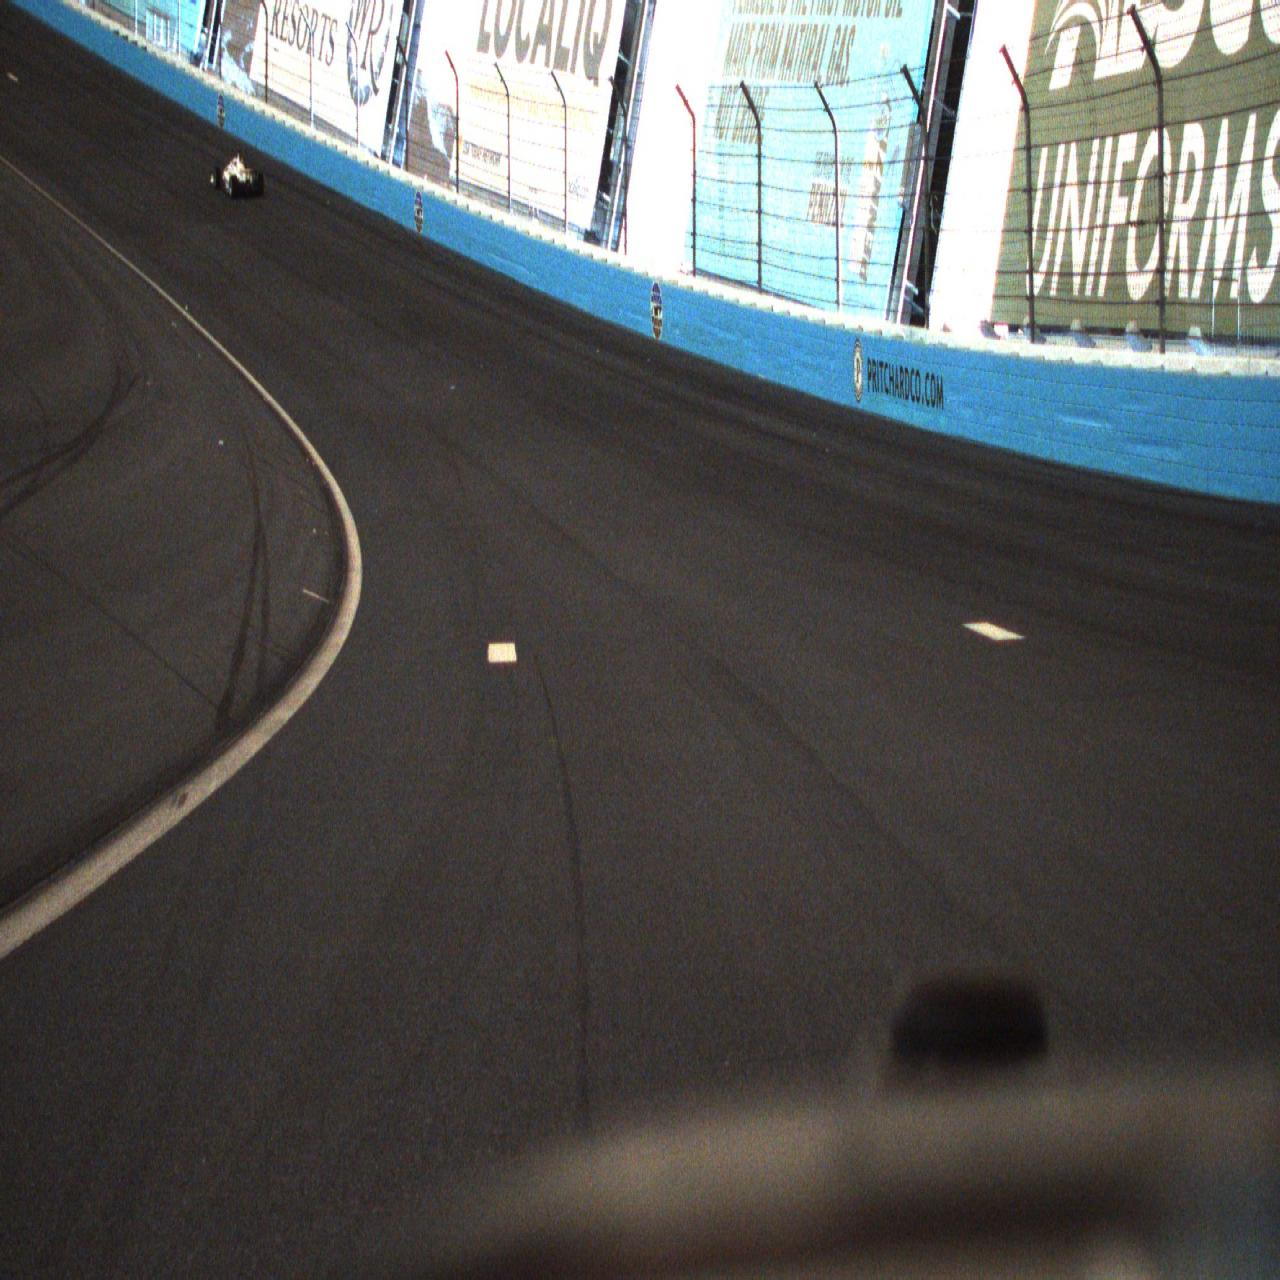AV: (210, 148, 264, 198)
Wheel: (229, 175, 239, 197), (213, 166, 220, 189), (258, 172, 264, 195)
